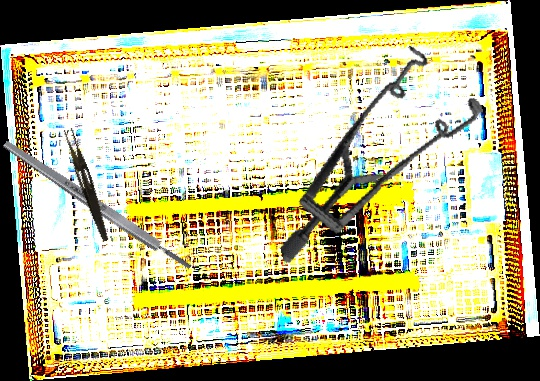Dressing Forceps: (59, 127, 115, 243)
Scalpel Handle: (1, 137, 194, 274)
Speculum: (240, 32, 508, 266)
